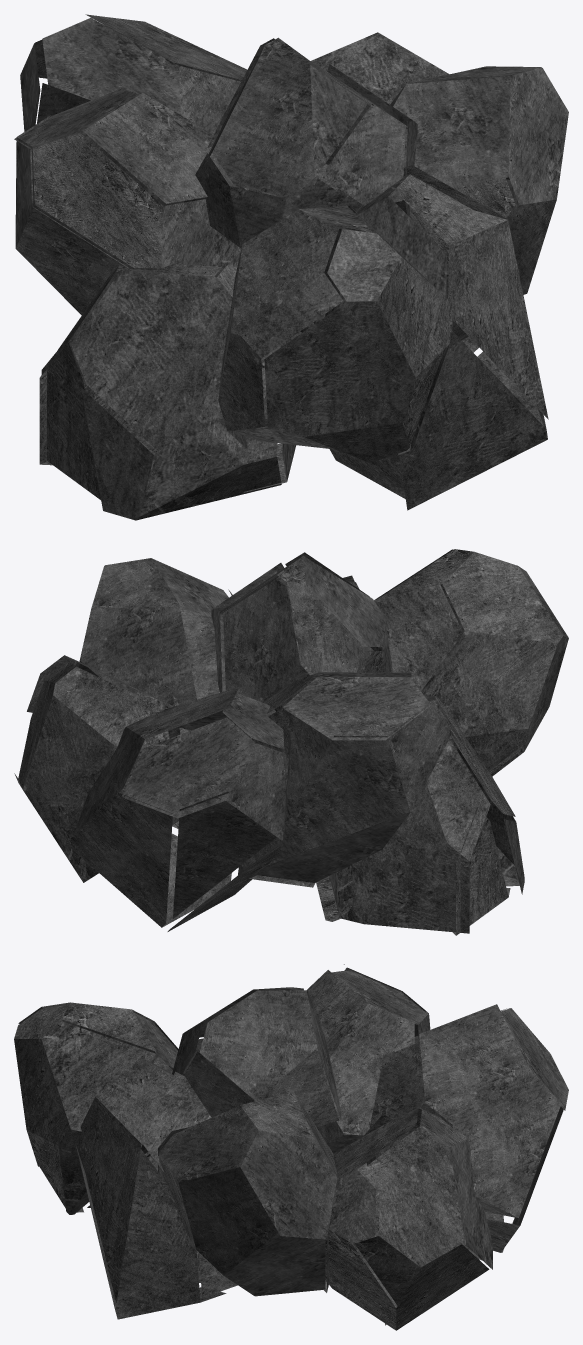
The model's file is Stone6.obj.
The picture shows the model from 3 angles, top to bottom: view 1: azimuth 30°, elevation 25°; view 2: azimuth 150°, elevation 25°; view 3: azimuth 270°, elevation 25°; orthographic projection. The views are drawn at different scales.
Visible parts, largest first — view 1: Object015; view 2: Object015; view 3: Object015.
Part boxes in pixels (x1,y1,x2,y2): Object015: (14, 14, 568, 520); Object015: (14, 549, 568, 935); Object015: (14, 964, 568, 1330).
Size of the model in its own units: 171 by 130 by 216.
1 material, 1 textured.
